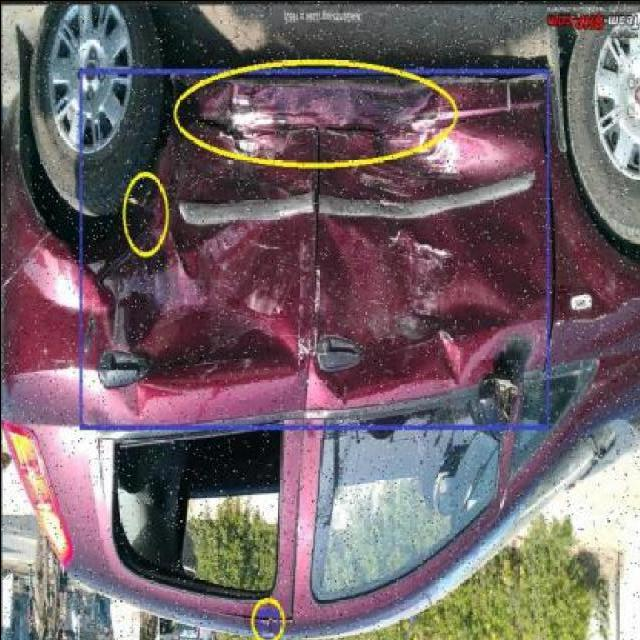RunningBoard-Dent: (350, 62, 554, 131), (168, 68, 355, 137)
doorouter-dent: (59, 122, 306, 428), (311, 129, 552, 420)
pillar-dent: (265, 402, 321, 640)
